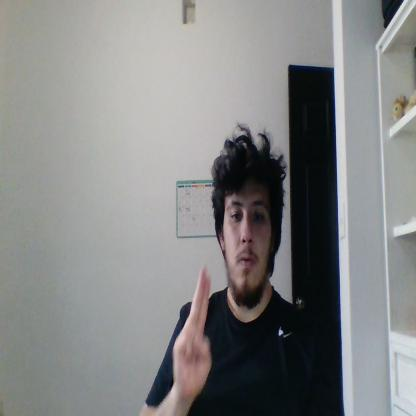U: (172, 267, 212, 395)
